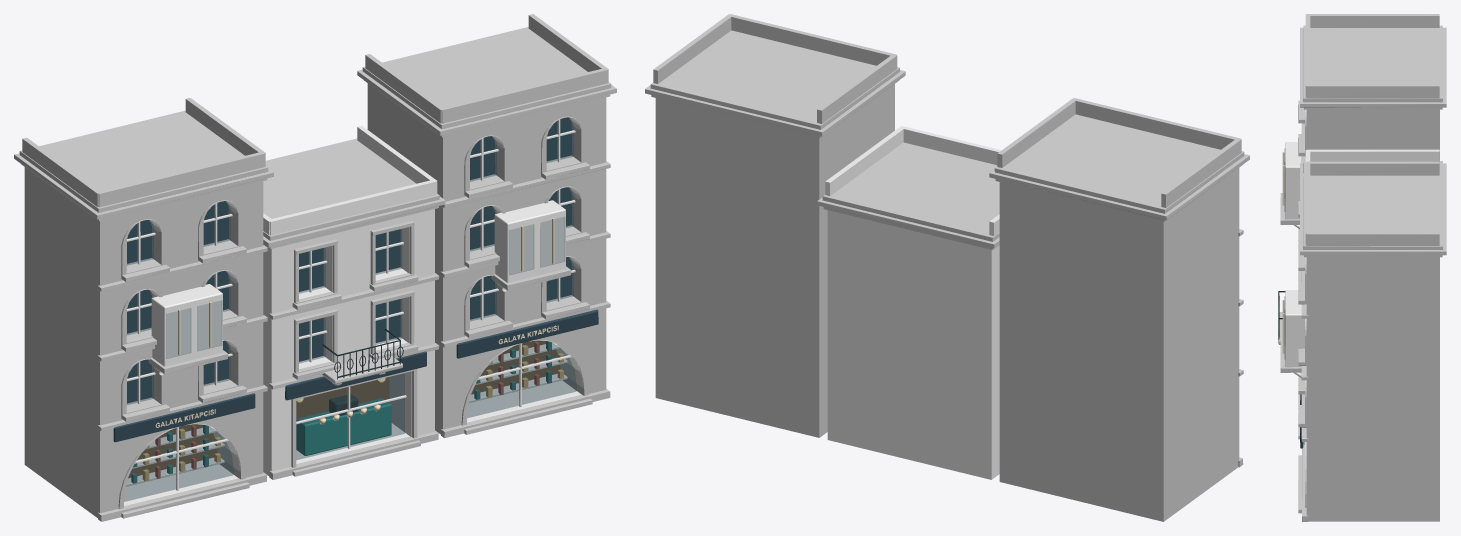
The model's file is DistrictBlock_4_2_LOD1.glb.
3 views of the same model, side by side, from view 1: azimuth 30°, elevation 25°; view 2: azimuth 150°, elevation 25°; view 3: azimuth 270°, elevation 25° (orthographic). The views are drawn at different scales.
Parts seen in each view (by area): view 1: RK_DistrictBlock_4_2_LOD1_LC_Lime, RK_DistrictBlock_4_2_LOD1_LC_Glass, RK_DistrictBlock_4_2_LOD1_LC_Brick, RK_DistrictBlock_4_2_LOD1_LC_Wood, RK_DistrictBlock_4_2_LOD1_LC_Ink, RK_DistrictBlock_4_2_LOD1_LC_Teal, RK_DistrictBlock_4_2_LOD1_LC_Interior, RK_DistrictBlock_4_2_LOD1_LC_Iron, RK_DistrictBlock_4_2_LOD1_LC_Canvas, RK_DistrictBlock_4_2_LOD1_LC_Gold, RK_DistrictBlock_4_2_LOD1_LC_Red; view 2: RK_DistrictBlock_4_2_LOD1_LC_Lime, RK_DistrictBlock_4_2_LOD1_LC_Brick; view 3: RK_DistrictBlock_4_2_LOD1_LC_Lime, RK_DistrictBlock_4_2_LOD1_LC_Wood, RK_DistrictBlock_4_2_LOD1_LC_Brick, RK_DistrictBlock_4_2_LOD1_LC_Canvas.
Part boxes in pixels (box(x1,y1,x2,y2)): RK_DistrictBlock_4_2_LOD1_LC_Lime: box(14, 14, 616, 521); RK_DistrictBlock_4_2_LOD1_LC_Glass: box(124, 117, 576, 501); RK_DistrictBlock_4_2_LOD1_LC_Brick: box(263, 125, 437, 475); RK_DistrictBlock_4_2_LOD1_LC_Wood: box(124, 119, 581, 506); RK_DistrictBlock_4_2_LOD1_LC_Ink: box(113, 117, 598, 442); RK_DistrictBlock_4_2_LOD1_LC_Teal: box(131, 341, 551, 483); RK_DistrictBlock_4_2_LOD1_LC_Interior: box(128, 340, 560, 478); RK_DistrictBlock_4_2_LOD1_LC_Iron: box(322, 329, 403, 415); RK_DistrictBlock_4_2_LOD1_LC_Canvas: box(155, 218, 558, 427); RK_DistrictBlock_4_2_LOD1_LC_Gold: box(142, 345, 563, 481); RK_DistrictBlock_4_2_LOD1_LC_Red: box(155, 341, 539, 478); RK_DistrictBlock_4_2_LOD1_LC_Lime: box(645, 14, 1249, 521); RK_DistrictBlock_4_2_LOD1_LC_Brick: box(825, 126, 1001, 479); RK_DistrictBlock_4_2_LOD1_LC_Lime: box(1278, 14, 1446, 521); RK_DistrictBlock_4_2_LOD1_LC_Wood: box(1285, 142, 1304, 377); RK_DistrictBlock_4_2_LOD1_LC_Brick: box(1305, 149, 1439, 162); RK_DistrictBlock_4_2_LOD1_LC_Canvas: box(1282, 152, 1284, 353).
Bounding box in the file's own units: 19.09 × 11.47 × 6.07.
